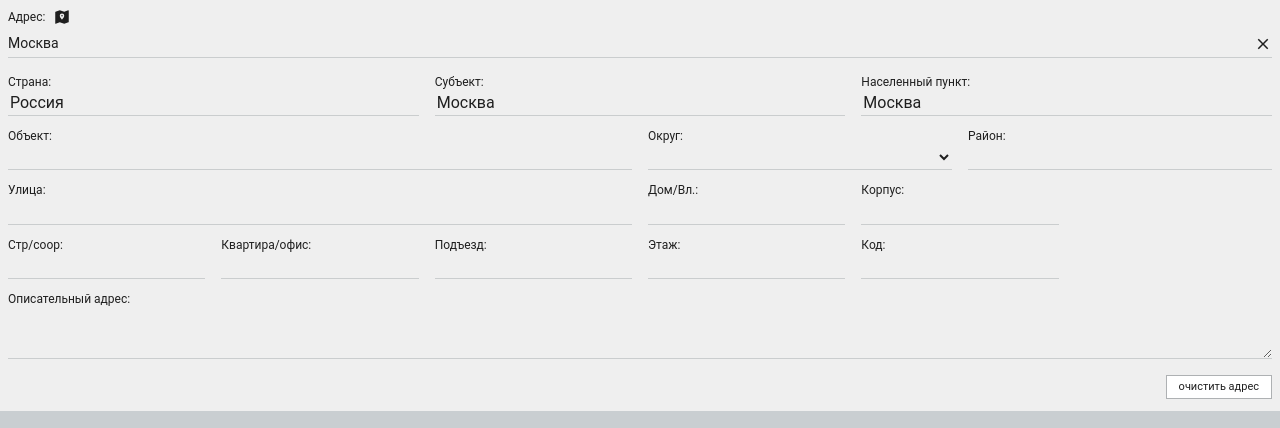
it: Operator112AddressField › выбор подсказки фиксирует источник «из справочника», округ и район
The image size is (1280, 428).
In the dropdown labelled "Улица:": (320, 212) [8,199,632,225], type "Грин"
Wait 260 ms
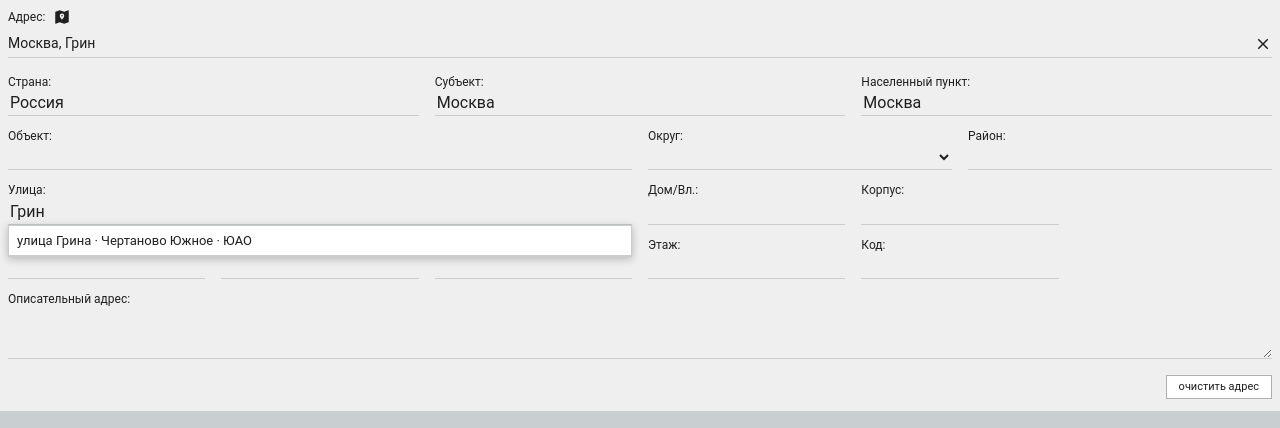
Press the mouse on the button "улица Грина · Чертаново Южное · ЮАО": (135, 240) [9,226,631,256]
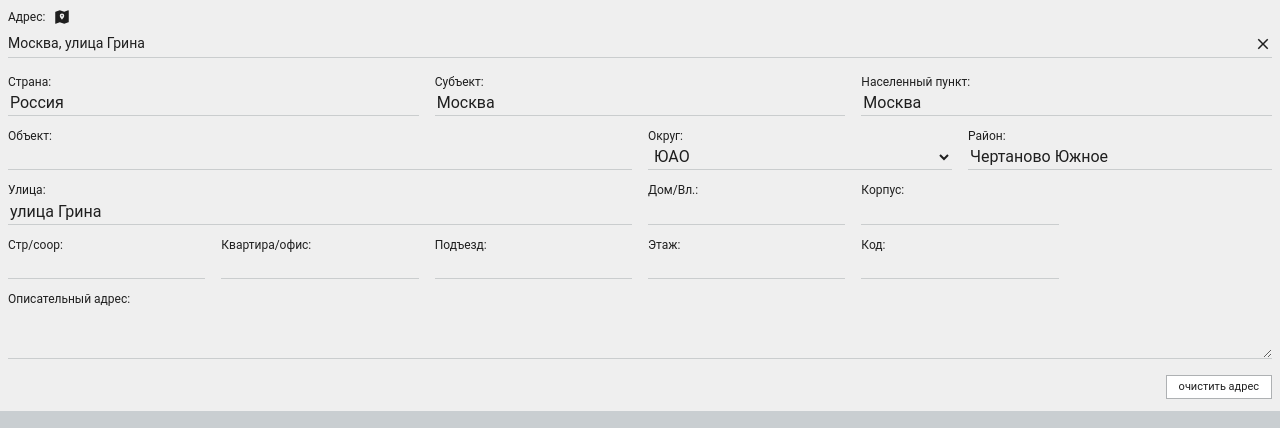
Expected: the text with test id "address-formal" reads "Москва, улица Грина", [8,35,145,51]
Expected: the list is gone
